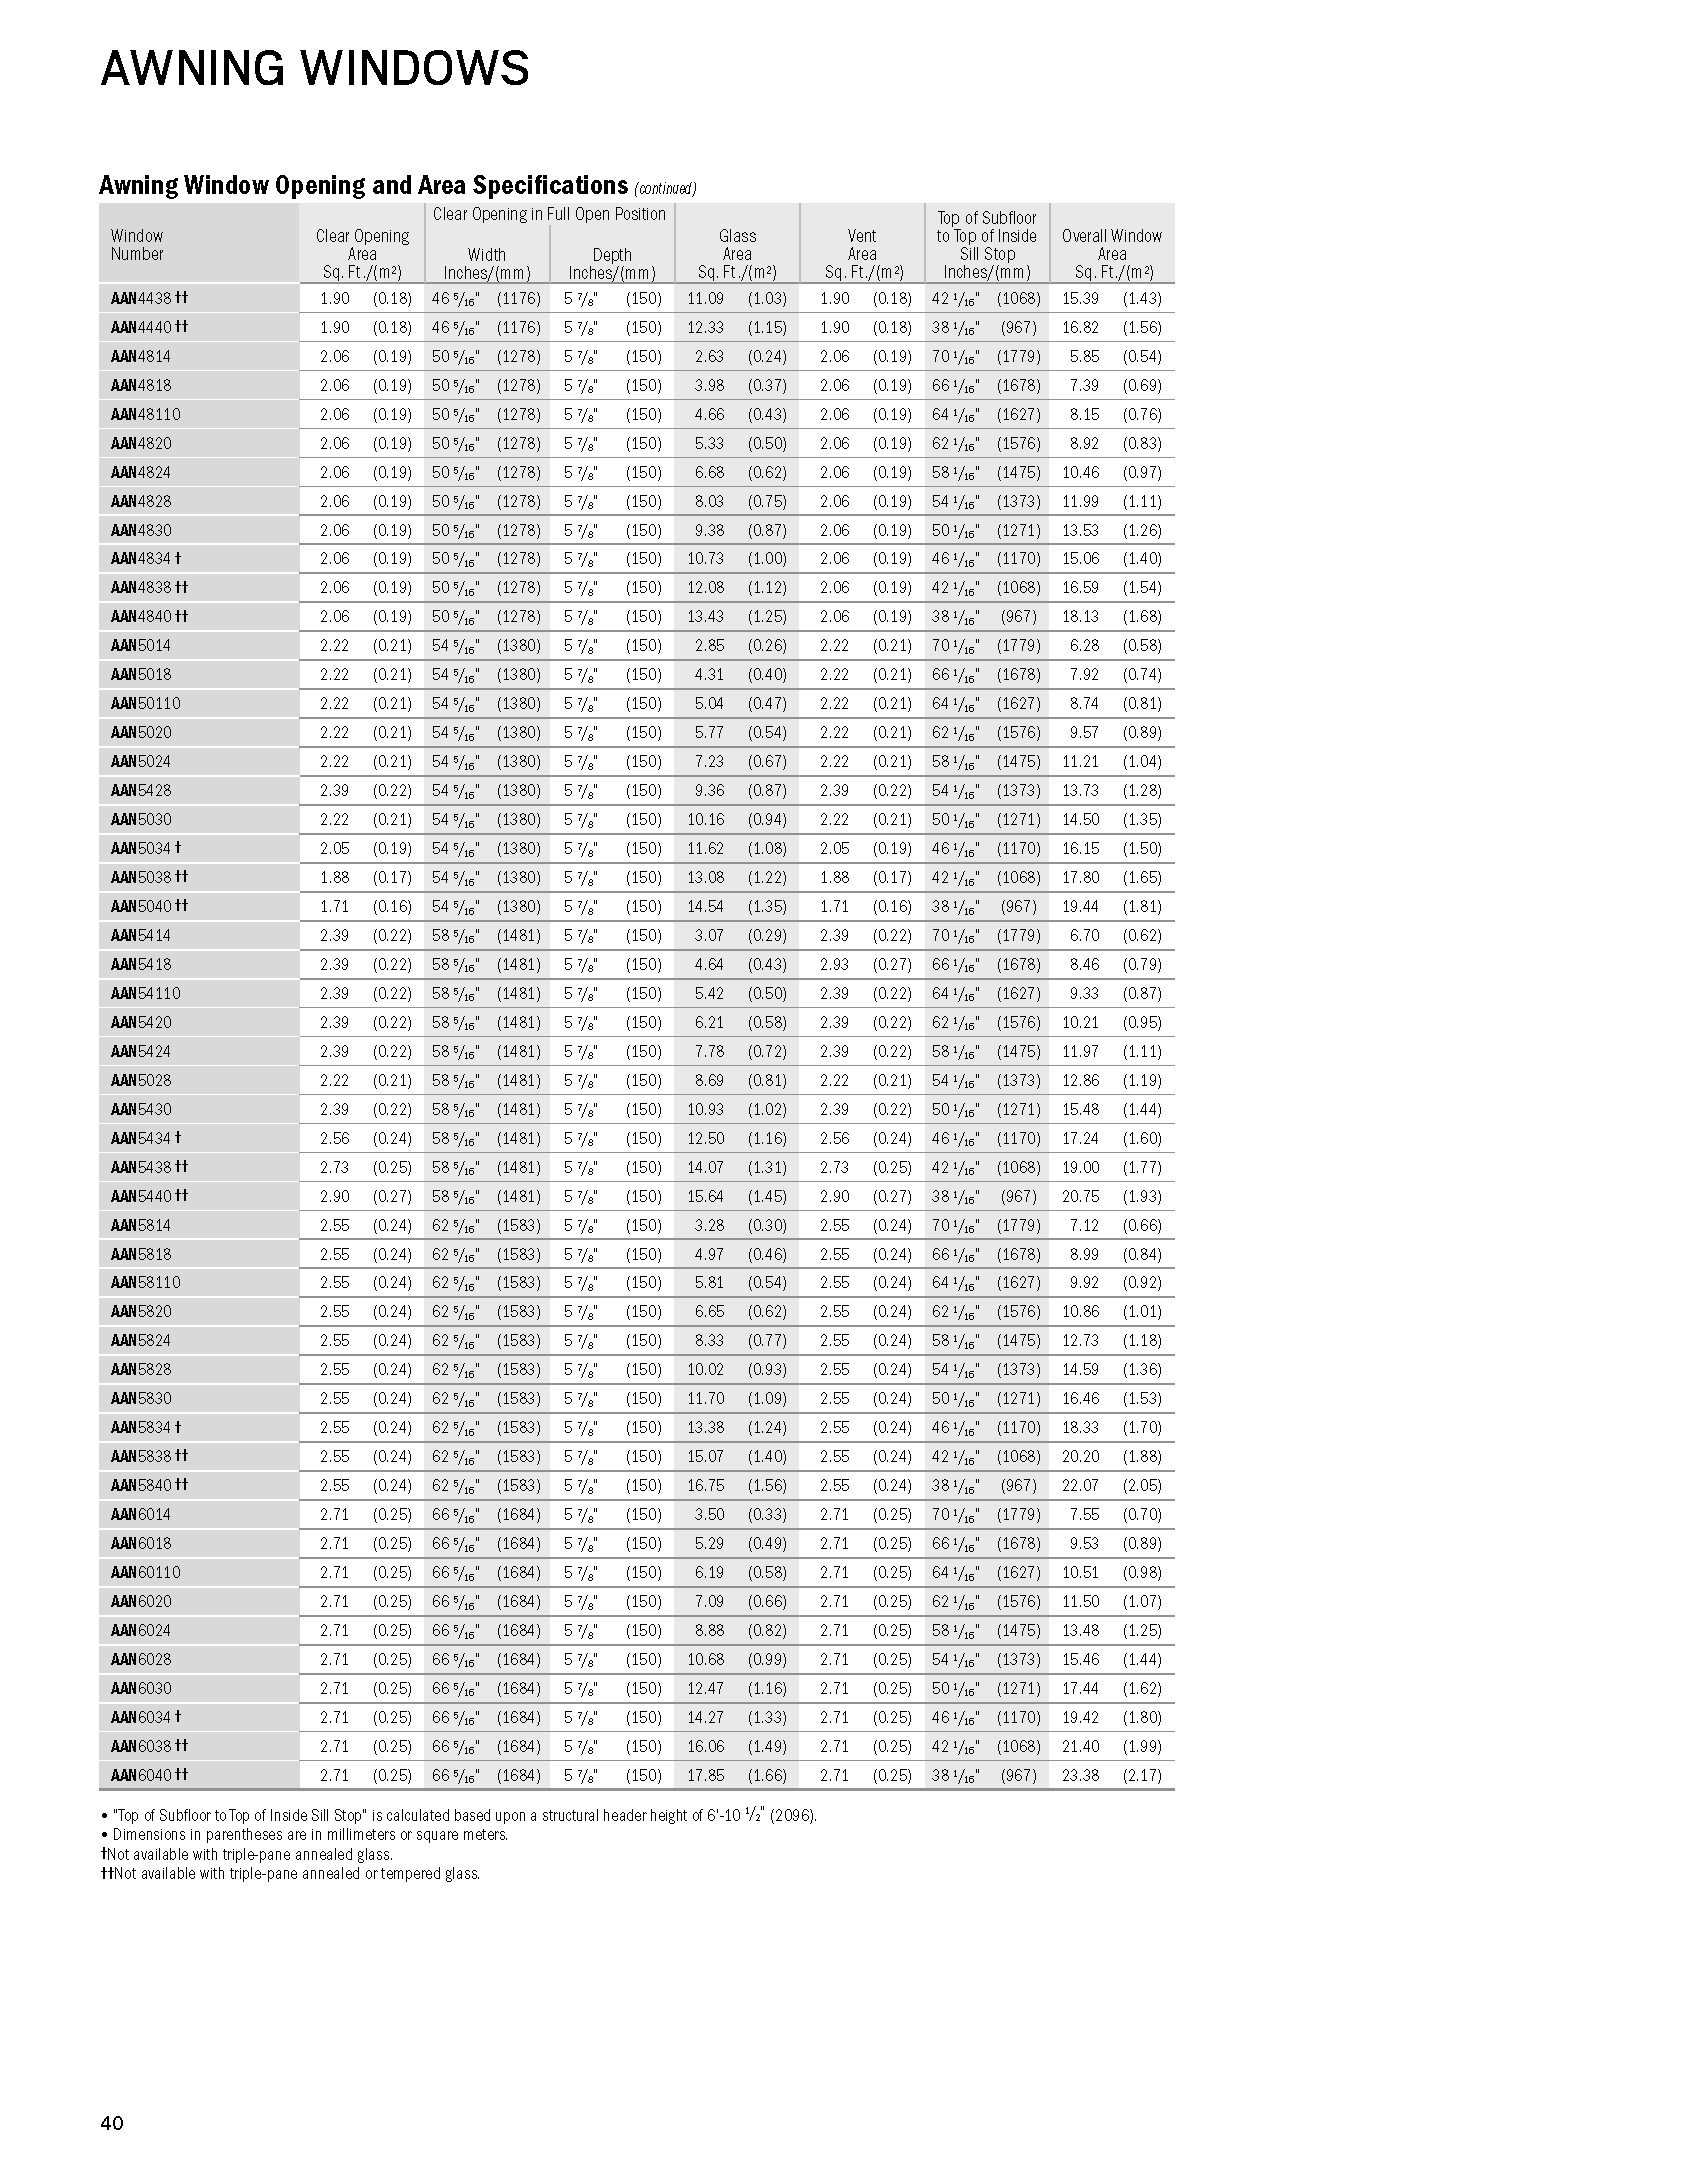tabledetected: (102, 207, 1177, 1787)
